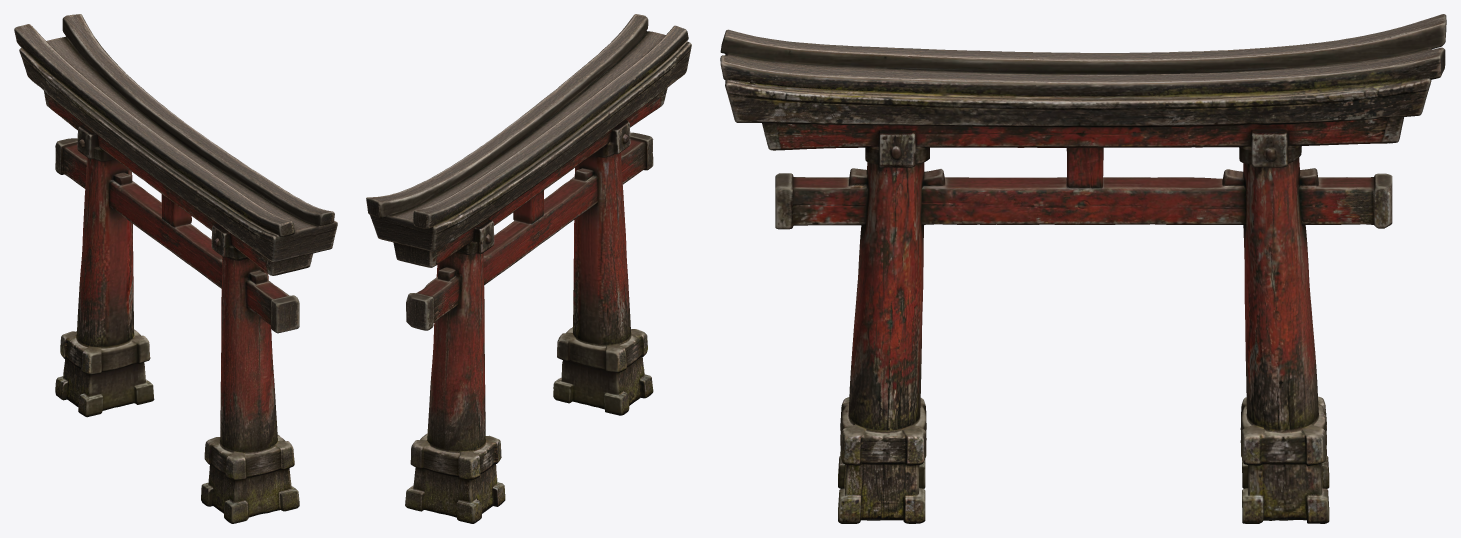
The model's file is Gate.fbx.
The picture shows the model from 3 angles, left to right: view 1: azimuth 30°, elevation 25°; view 2: azimuth 150°, elevation 25°; view 3: azimuth 270°, elevation 25°; orthographic projection. The views are drawn at different scales.
Visible parts, largest first — view 1: torii gate 3d model; view 2: torii gate 3d model; view 3: torii gate 3d model.
Boxes of the visible parts, left/top/right/bottom form: torii gate 3d model: left=14, top=14, right=337, bottom=523; torii gate 3d model: left=366, top=14, right=691, bottom=523; torii gate 3d model: left=720, top=14, right=1446, bottom=523.
Bounding box in the file's own units: 14.86 × 69.44 × 97.94.
Materials: 1 (1 with a texture image).
